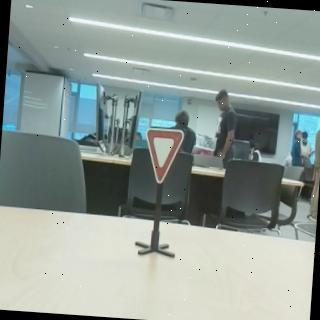sign_yield: (142, 126, 185, 187)
